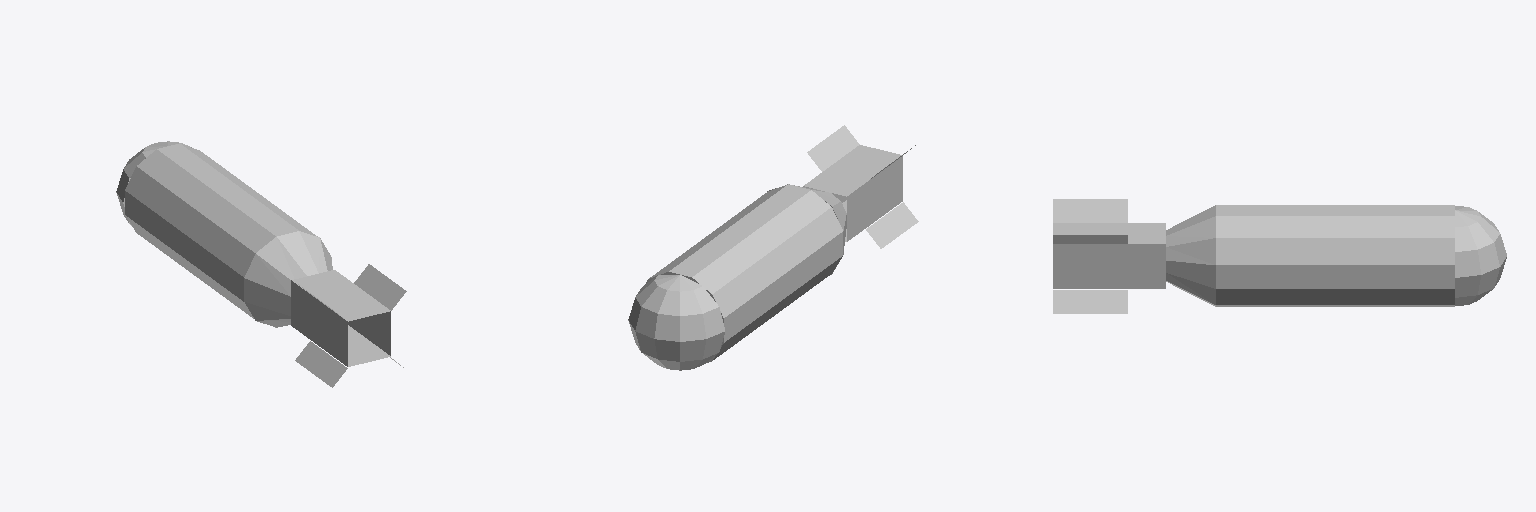
File: bomb.obj
The picture shows the model from 3 angles: view 1: azimuth 30°, elevation 25°; view 2: azimuth 150°, elevation 25°; view 3: azimuth 270°, elevation 25°; orthographic projection.
Parts seen in each view (by area): view 1: cylinder, cuboid, sphere; view 2: cylinder, cuboid, sphere; view 3: cylinder, cuboid, sphere.
Part boxes in pixels (x1,y1,x2,y2): cylinder: (125, 144, 332, 327); cuboid: (291, 264, 406, 387); sphere: (116, 141, 191, 225); cylinder: (645, 184, 846, 363); cuboid: (803, 125, 918, 248); sphere: (628, 275, 724, 370); cylinder: (1166, 205, 1454, 306); cuboid: (1053, 199, 1165, 313); sphere: (1455, 206, 1506, 305).
Bounding box in the file's own units: 0.2588 × 0.25 × 1.13.